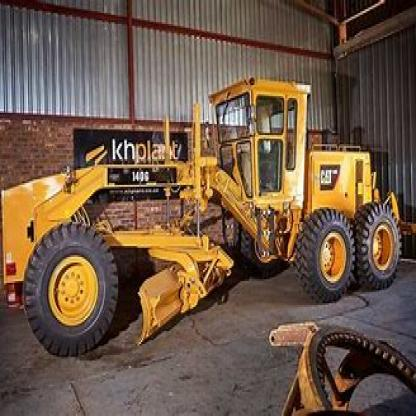bull_dozer/loader/grader: (4, 61, 415, 349)
